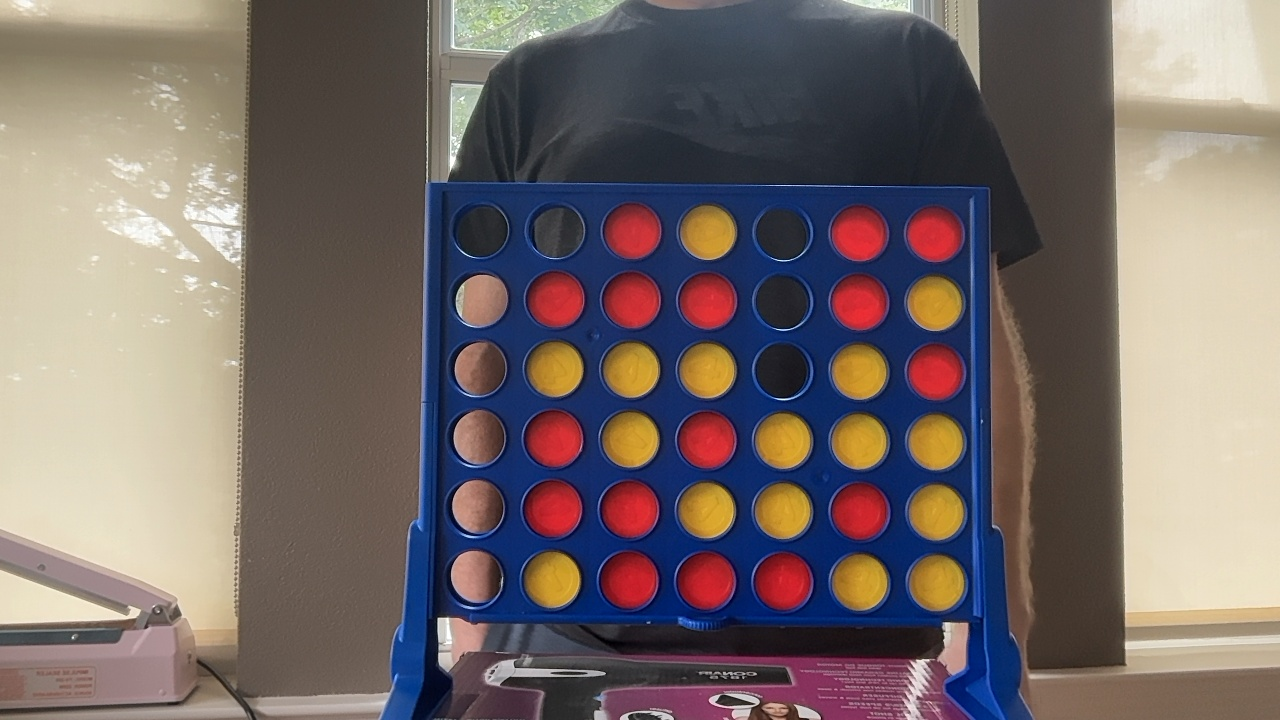red piece: (753, 552, 813, 611), (676, 551, 735, 610), (599, 551, 658, 609), (600, 480, 659, 538), (677, 411, 735, 469), (602, 271, 660, 329), (524, 410, 582, 468), (523, 480, 582, 537), (831, 483, 889, 540), (526, 271, 584, 328), (907, 343, 964, 400), (830, 274, 888, 330), (678, 273, 736, 329), (906, 206, 963, 262), (604, 203, 660, 259), (831, 206, 887, 261)
yellow piece: (523, 551, 581, 609), (677, 481, 735, 539), (754, 412, 812, 470), (754, 482, 812, 539), (831, 554, 888, 611), (526, 340, 583, 397), (601, 411, 658, 468), (602, 341, 659, 398), (908, 555, 965, 612), (830, 413, 888, 469), (908, 484, 965, 540), (831, 343, 888, 399), (908, 413, 964, 470), (678, 342, 735, 398), (679, 204, 736, 259), (906, 275, 963, 330)
